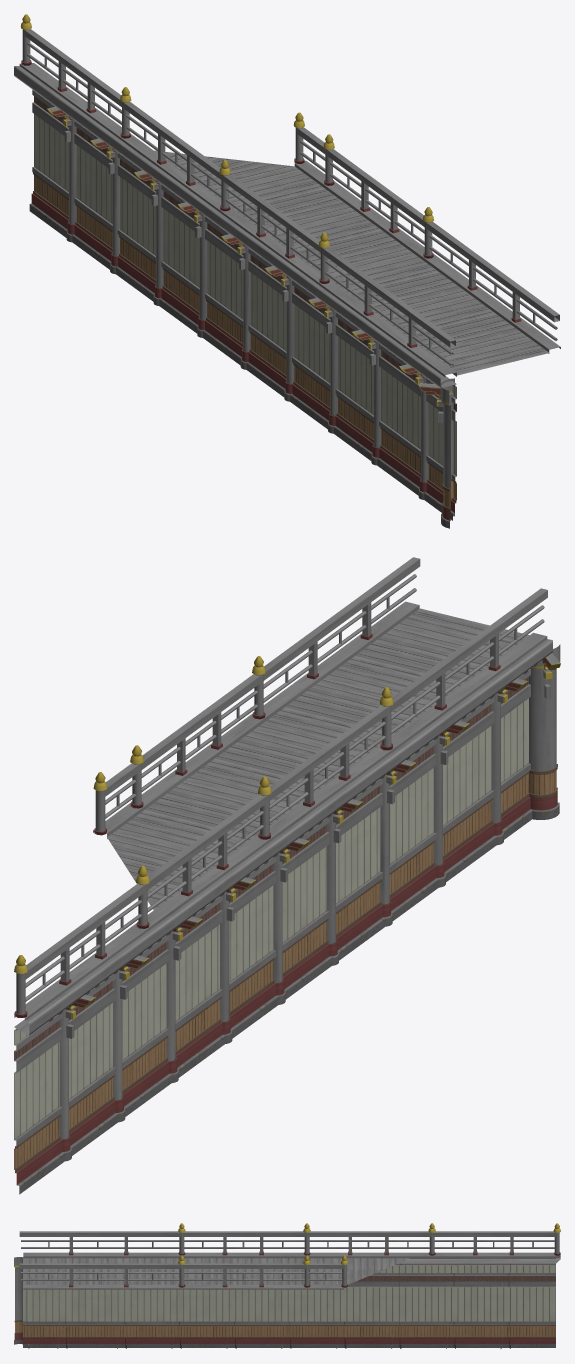
File: SM_ENV_LKNVLD_WallSet_Connector.FBX
3 views of the same model, one above another, from view 1: azimuth 30°, elevation 25°; view 2: azimuth 150°, elevation 25°; view 3: azimuth 270°, elevation 25° (orthographic). The views are drawn at different scales.
Visible parts, largest first — view 1: SM_ENV_LKNVLD_WallSet_Connector; view 2: SM_ENV_LKNVLD_WallSet_Connector; view 3: SM_ENV_LKNVLD_WallSet_Connector.
Boxes of the visible parts, left/top/right/bottom form: SM_ENV_LKNVLD_WallSet_Connector: left=14, top=14, right=560, bottom=528; SM_ENV_LKNVLD_WallSet_Connector: left=14, top=557, right=560, bottom=1194; SM_ENV_LKNVLD_WallSet_Connector: left=14, top=1223, right=560, bottom=1348.
Size of the model in its own units: 582 by 812 by 3256.
